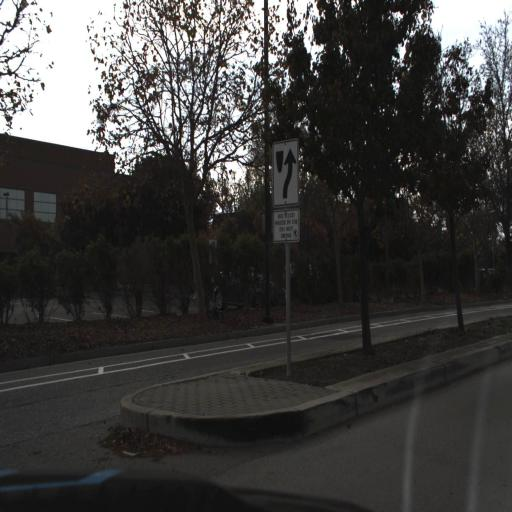car: (191, 256, 286, 319)
